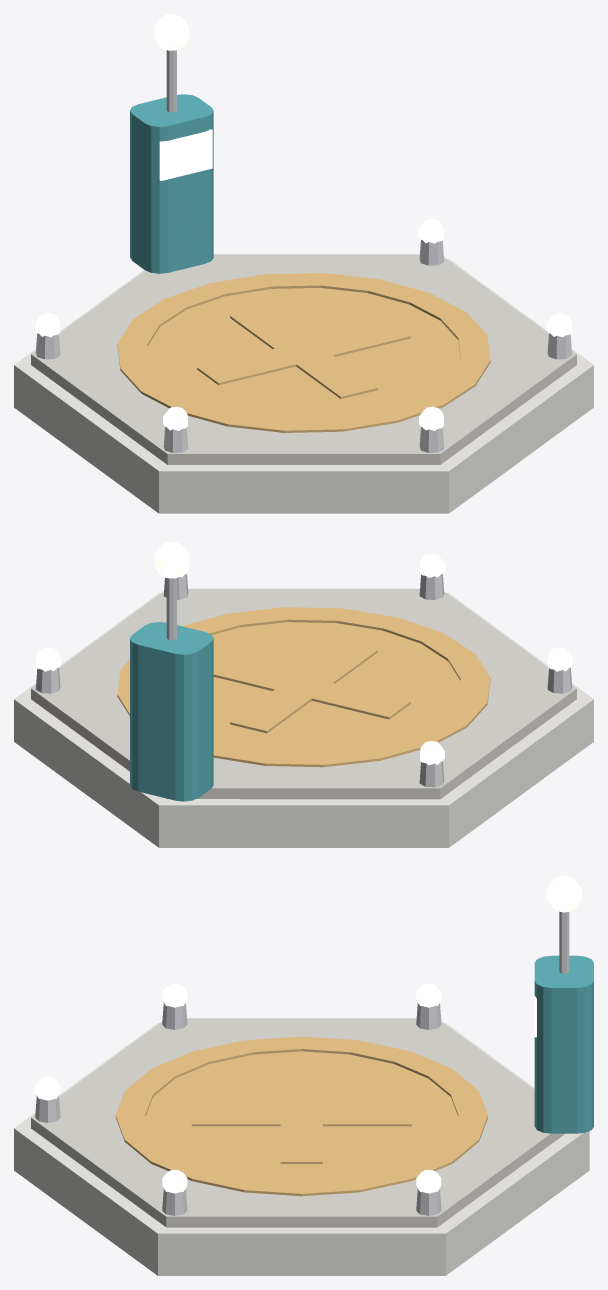
Rendered from arcology-towers-and-skyways-drone-landing-pad-81b00bea__23275.glb.
The picture shows the model from 3 angles, top to bottom: view 1: azimuth 30°, elevation 25°; view 2: azimuth 150°, elevation 25°; view 3: azimuth 270°, elevation 25°; orthographic projection.
Visible parts, largest first — view 1: drone-landing-pad; view 2: drone-landing-pad; view 3: drone-landing-pad.
Part boxes in pixels (left/top/right/bottom): drone-landing-pad: left=14, top=14, right=593, bottom=513; drone-landing-pad: left=14, top=542, right=593, bottom=847; drone-landing-pad: left=14, top=876, right=593, bottom=1275.
Bounding box in the file's own units: 5.89 × 3.82 × 6.85.
